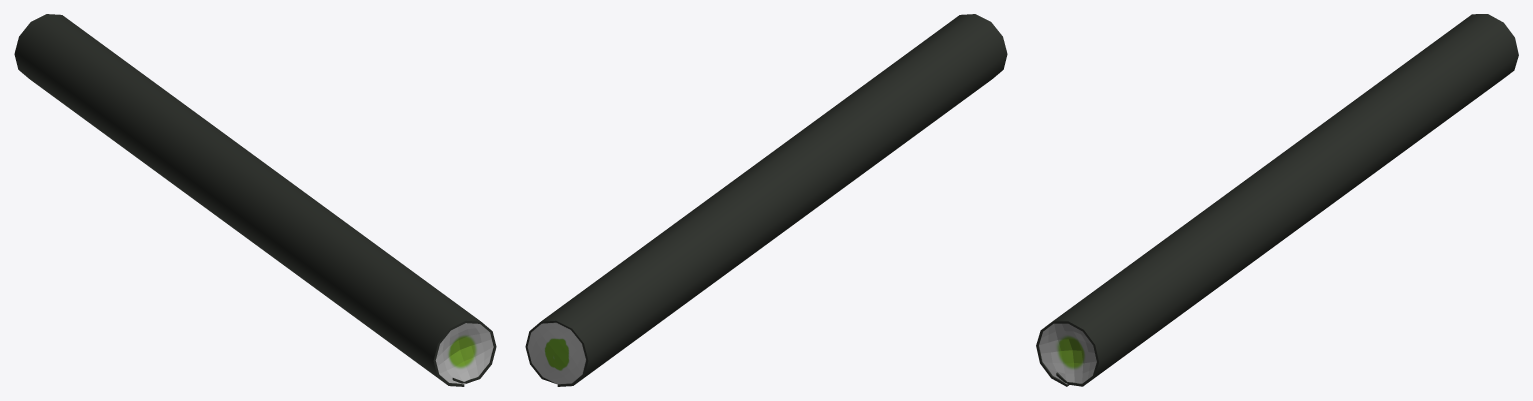
Rendered from Somon Hosomaki_u.fbx.
The picture shows the model from 3 angles, left to right: view 1: azimuth 30°, elevation 25°; view 2: azimuth 150°, elevation 25°; view 3: azimuth 330°, elevation 25°; orthographic projection.
Visible parts, largest first — view 1: Salatalık Hosomakiuzun; view 2: Salatalık Hosomakiuzun; view 3: Salatalık Hosomakiuzun.
Part boxes in pixels (x1,y1,x2,y2): Salatalık Hosomakiuzun: [14, 14, 496, 386]; Salatalık Hosomakiuzun: [525, 14, 1007, 386]; Salatalık Hosomakiuzun: [1036, 14, 1518, 386].
Bounding box in the file's own units: 6.31 × 6.31 × 72.88.
